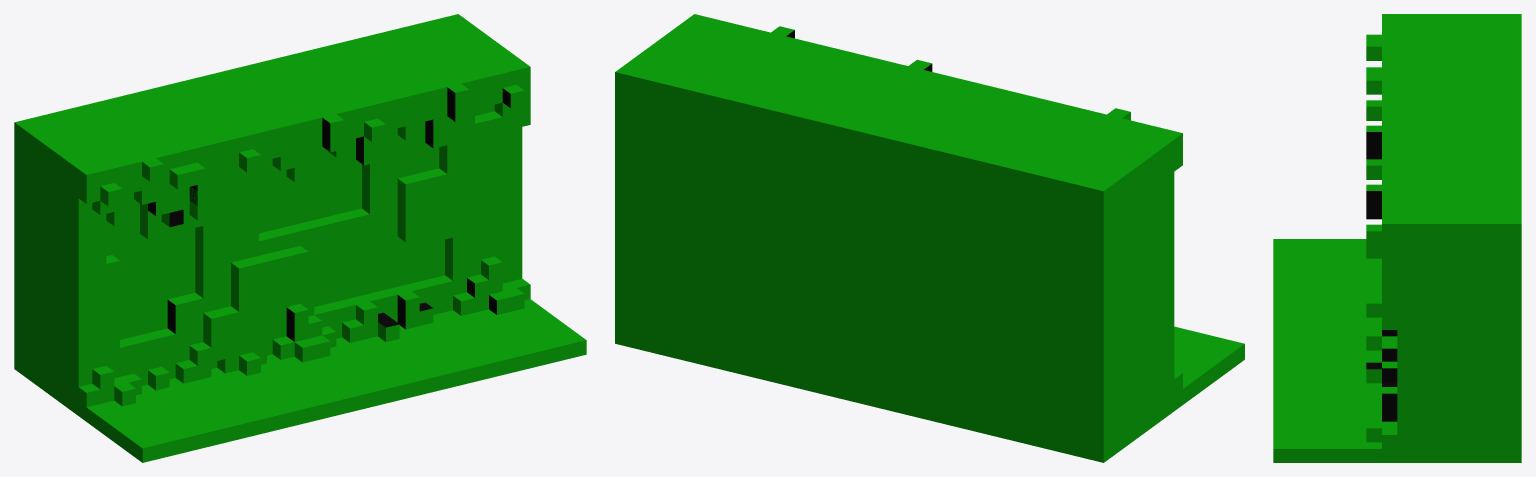
The model's file is Straight3.fbx.
3 renders of one model, left to right at view 1: azimuth 30°, elevation 25°; view 2: azimuth 150°, elevation 25°; view 3: azimuth 270°, elevation 25°, orthographic. The views are drawn at different scales.
Parts seen in each view (by area): view 1: Ground, Cliff; view 2: Cliff, Ground; view 3: Ground, Cliff.
Boxes of the visible parts, left/top/right/bottom form: Ground: left=14, top=14, right=586, bottom=462; Cliff: left=14, top=104, right=522, bottom=415; Cliff: left=615, top=88, right=1174, bottom=462; Ground: left=615, top=14, right=1244, bottom=410; Ground: left=1273, top=14, right=1521, bottom=462; Cliff: left=1382, top=238, right=1521, bottom=462.
Bounding box in the file's own units: 32 × 17 × 16.
